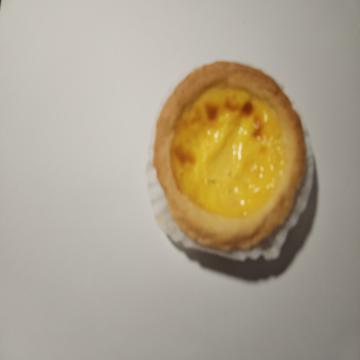EggTart: (154, 60, 306, 252)
